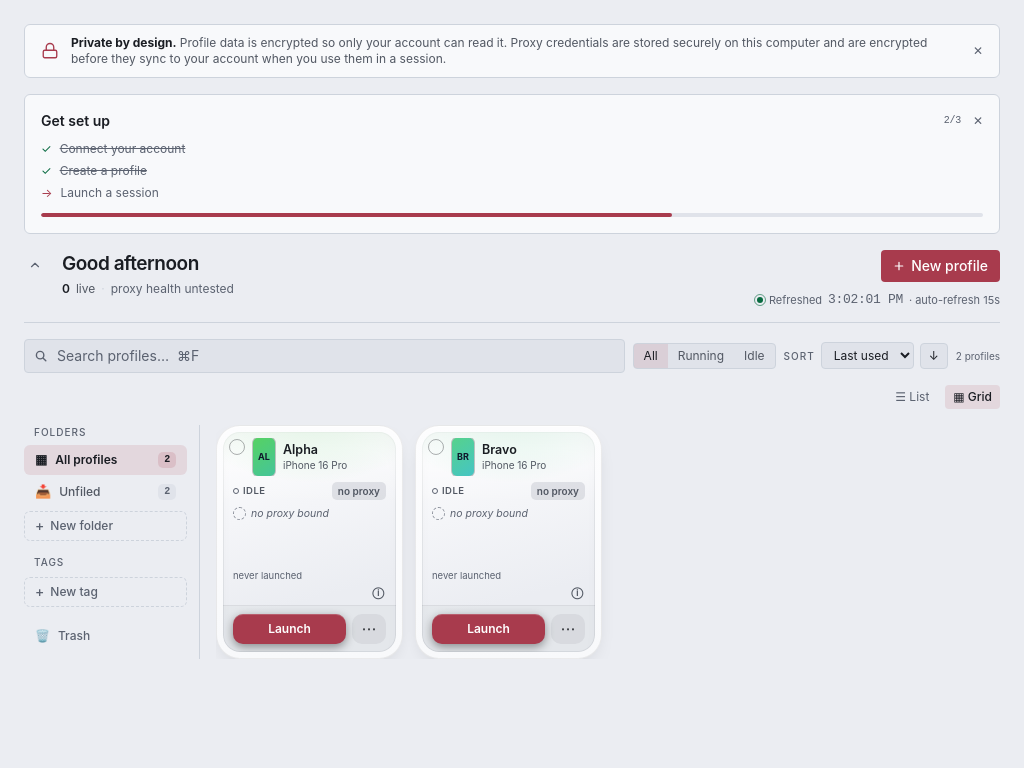
Test: ProfilesView bulk delete — failure summary › reports how many could NOT be deleted instead of silently leaving them
Click the button with aria-label "Select Alpha" at (310, 542), box [216, 424, 403, 658]
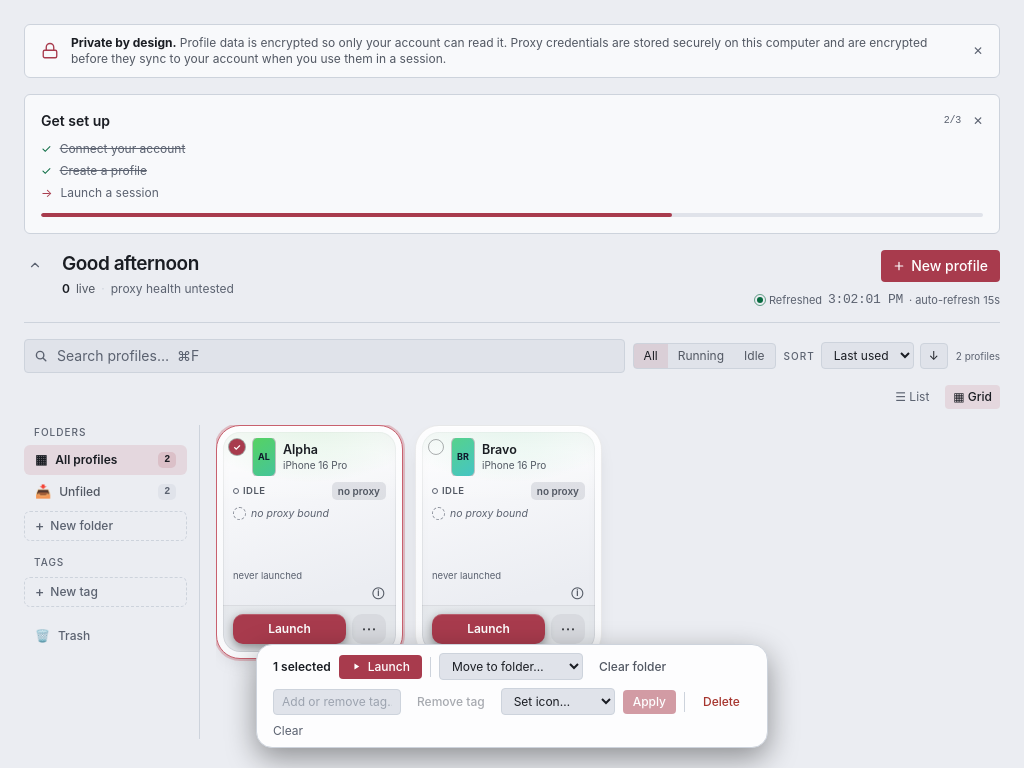
Click the button with aria-label "Select Bravo" at (508, 542), box [415, 424, 602, 658]
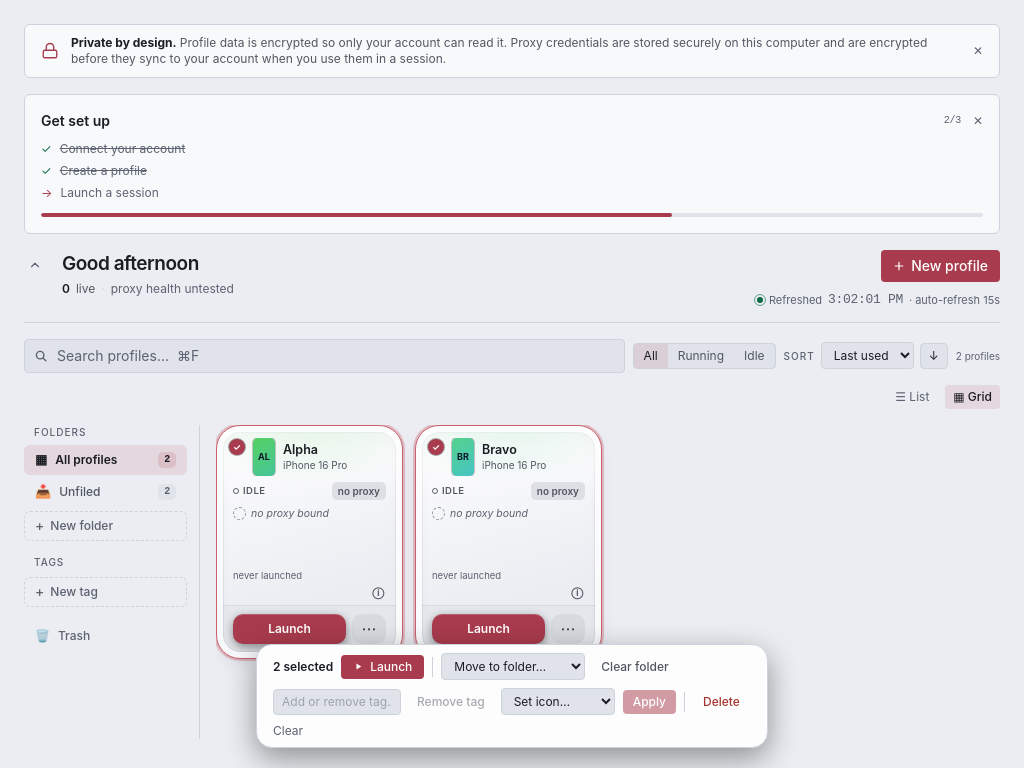
Click the button "Delete" at (721, 702), box [693, 690, 750, 714]
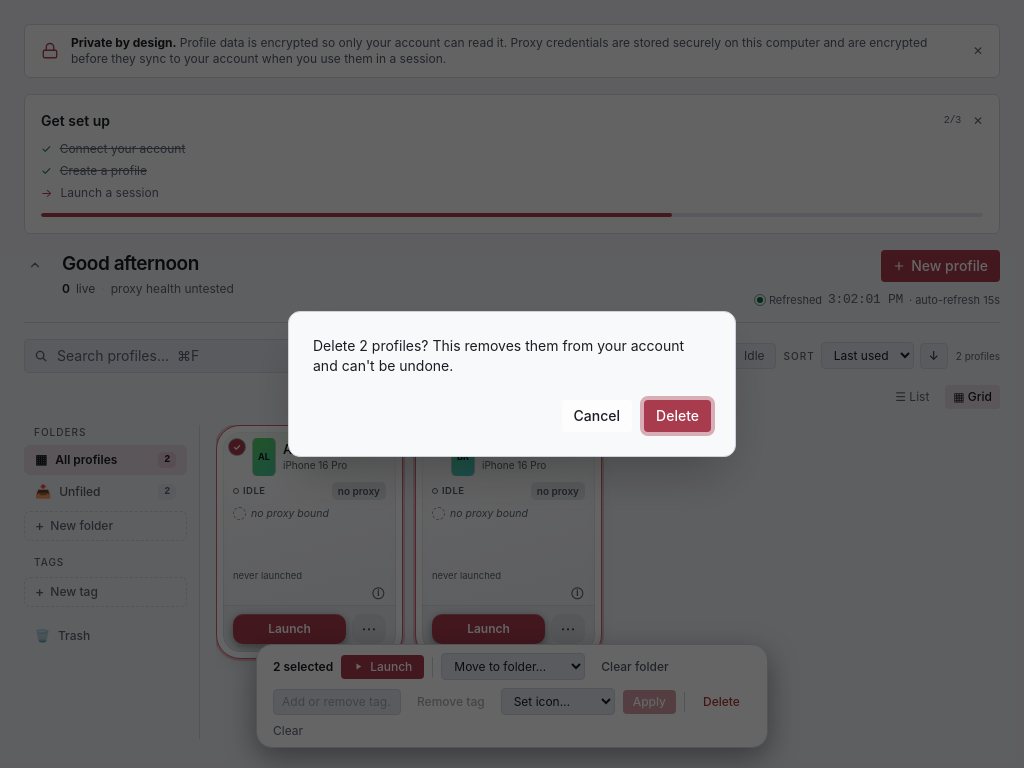
Click the button "Delete" at (678, 416), box [644, 400, 711, 432]
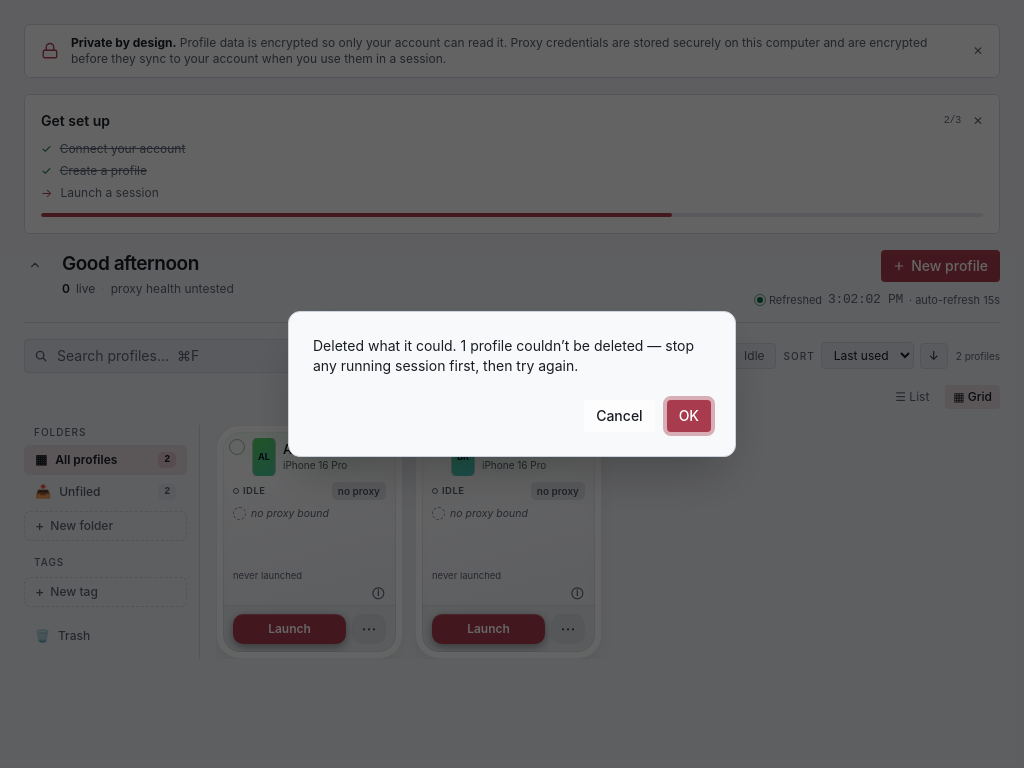
Expected: the text "1 profile couldn.t be deleted" is shown, [313, 337, 694, 374]
